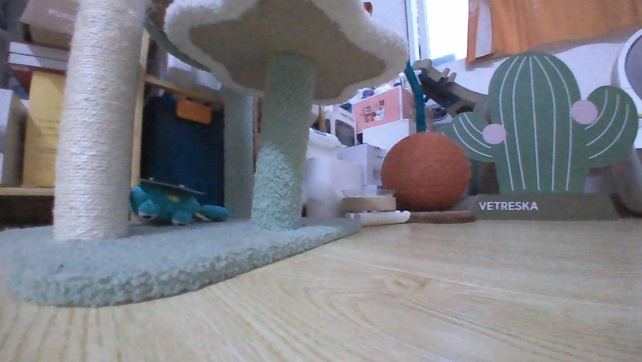blanket: (0, 211, 365, 314)
plastic_toy: (126, 171, 232, 230)
